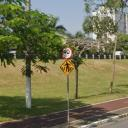speed_limit_40: (62, 46, 72, 60)
